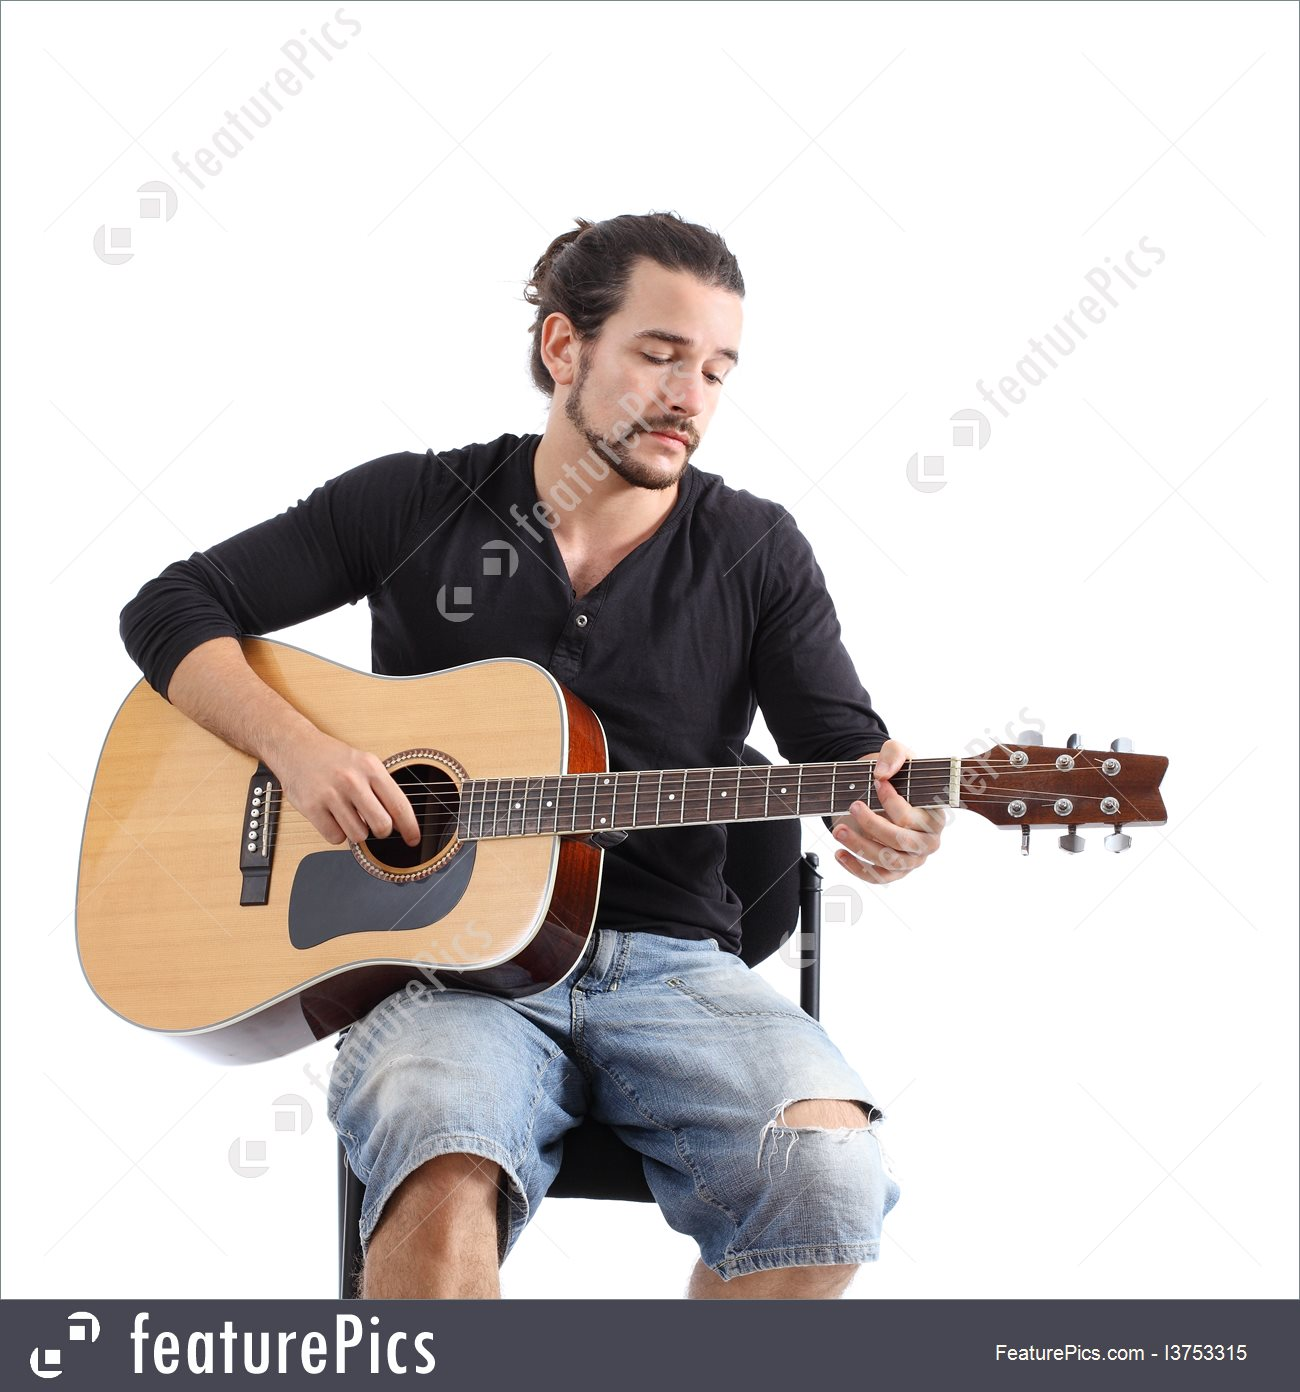fretboard: (458, 756, 951, 838)
